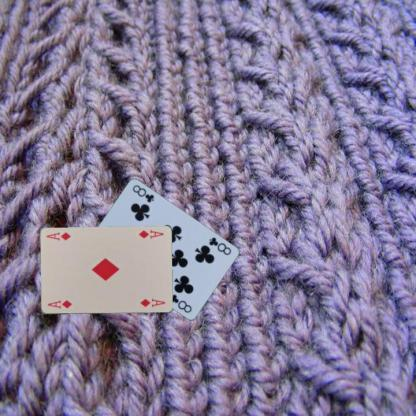8c: (206, 234, 232, 256)
Ad: (136, 227, 165, 240), (44, 298, 73, 310)
